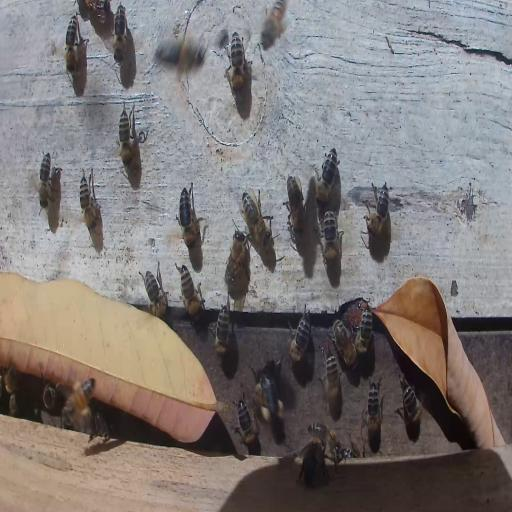bee: (154, 36, 203, 77), (240, 187, 272, 246), (260, 380, 287, 447), (60, 372, 96, 420), (258, 0, 290, 52), (364, 180, 392, 236), (225, 225, 250, 285), (287, 304, 312, 363), (312, 148, 338, 204), (236, 397, 260, 454), (178, 186, 200, 248), (210, 301, 232, 363), (178, 266, 204, 318), (78, 166, 98, 233), (141, 268, 168, 314), (319, 210, 341, 266), (398, 378, 422, 429), (333, 321, 357, 370), (365, 375, 383, 440), (322, 350, 342, 406), (302, 440, 326, 486), (356, 300, 374, 361), (287, 173, 305, 233), (118, 102, 134, 167), (229, 30, 244, 95), (112, 2, 126, 64), (90, 410, 114, 446), (38, 150, 52, 209), (65, 13, 77, 76), (308, 424, 338, 444), (42, 382, 57, 412), (4, 366, 18, 392), (344, 436, 360, 458), (10, 391, 18, 416)
